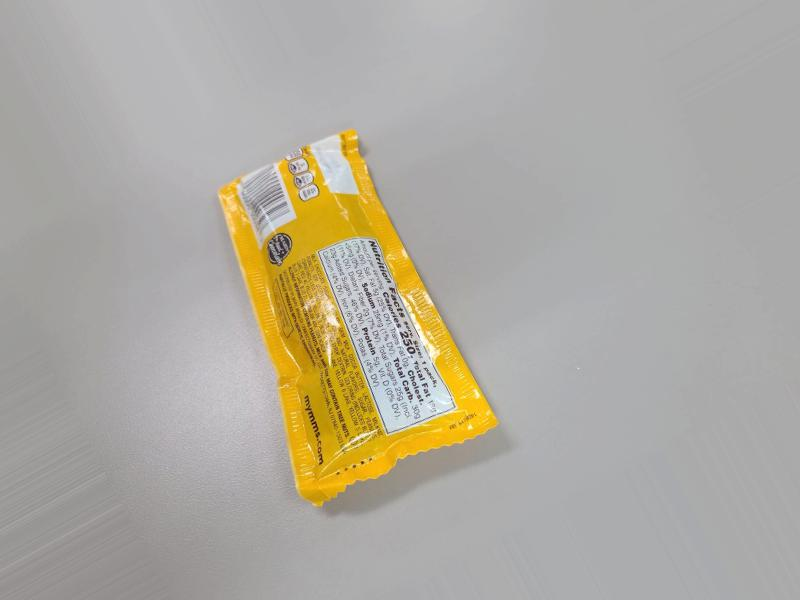m&m: (206, 142, 507, 489)
